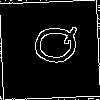Q: (24, 25, 79, 65)
